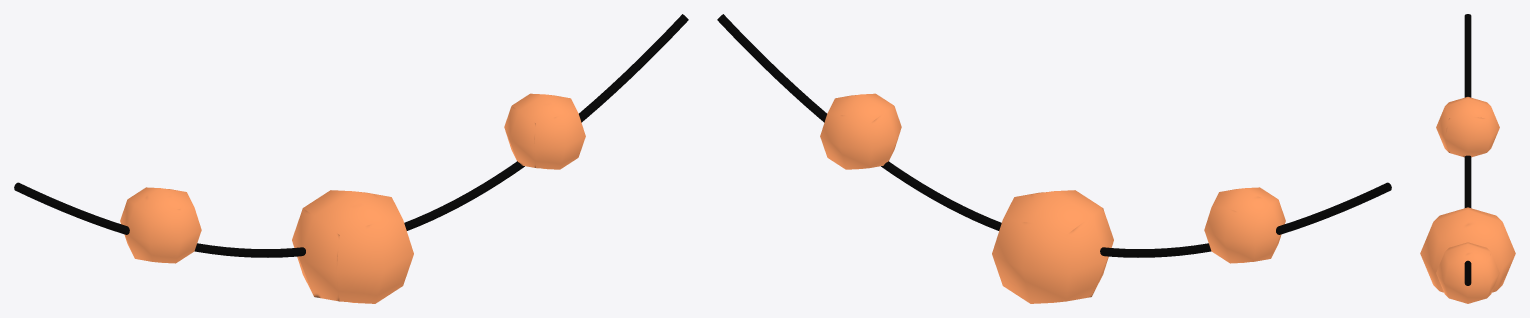
The model's file is string_lights.glb.
3 renders of one model, left to right at view 1: azimuth 30°, elevation 25°; view 2: azimuth 150°, elevation 25°; view 3: azimuth 270°, elevation 25°, orthographic. The views are drawn at different scales.
Parts seen in each view (by area): view 1: Cube; view 2: Cube; view 3: Cube.
Boxes of the visible parts, x1,y1,x2,y2 form: Cube: (14, 14, 688, 303); Cube: (717, 14, 1391, 303); Cube: (1420, 14, 1515, 303).
Bounding box in the file's own units: 10.59 × 3.12 × 1.68.
Materials: 1 (1 with a texture image).
